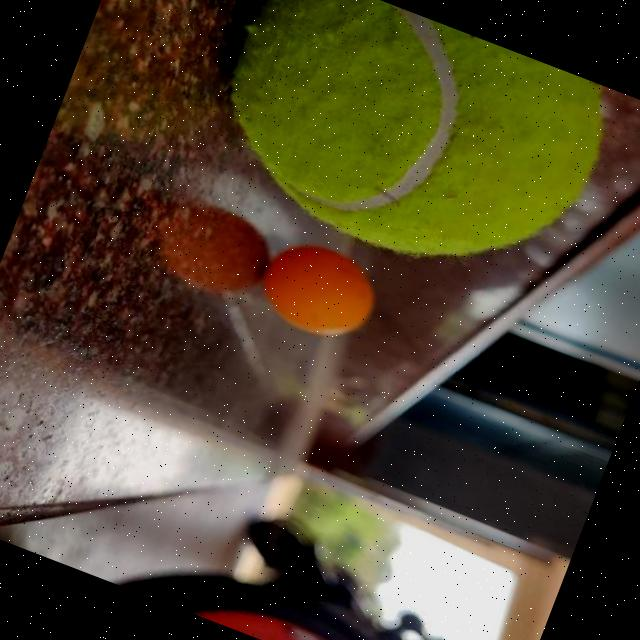ping-pong-ball: (250, 230, 386, 352)
